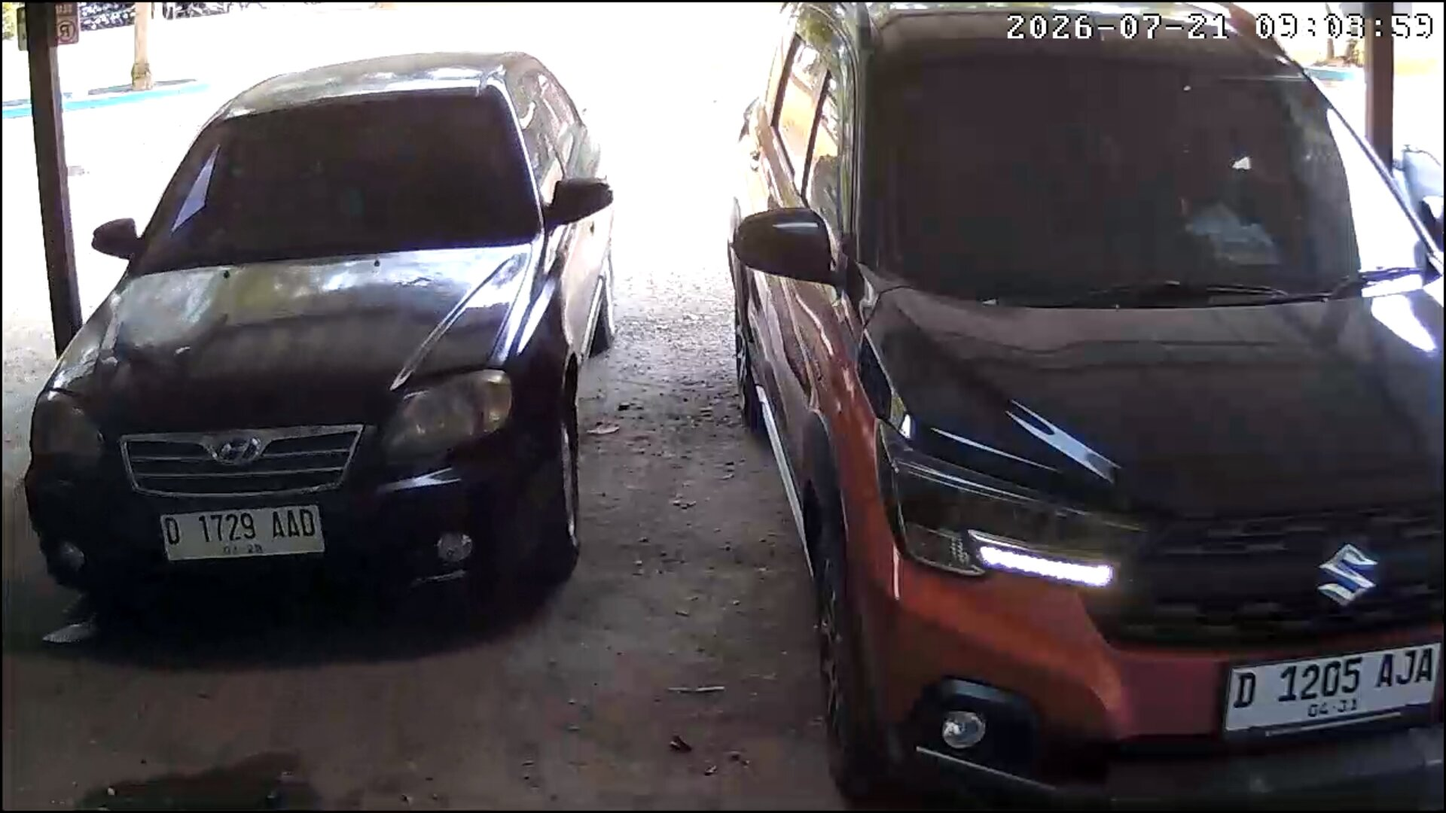plat nomor: (1221, 641, 1443, 738), (157, 503, 328, 565)
